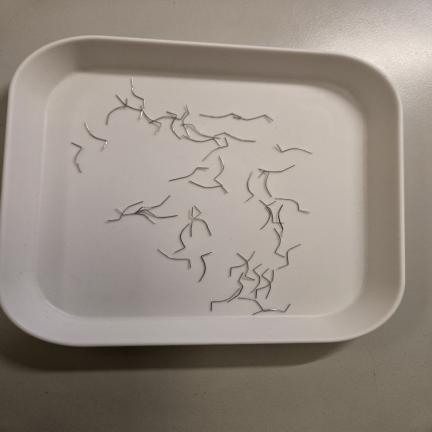probe: (85, 123, 108, 149), (169, 167, 208, 181), (199, 252, 212, 281), (71, 142, 83, 172), (276, 144, 312, 154)
